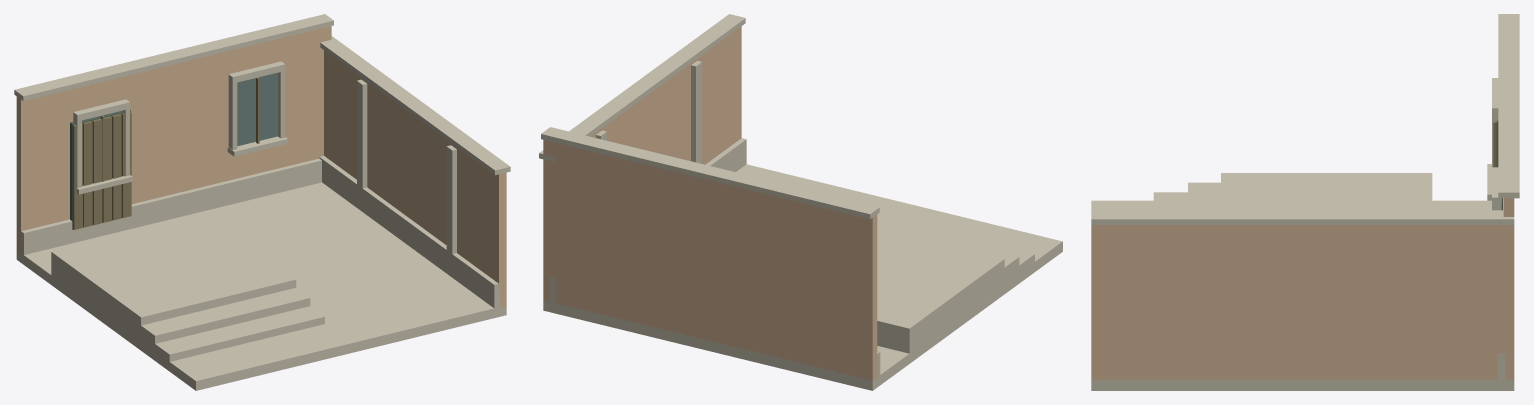
The model's file is district-2-0-1.glb.
3 views of the same model, side by side, from view 1: azimuth 30°, elevation 25°; view 2: azimuth 150°, elevation 25°; view 3: azimuth 270°, elevation 25° (orthographic). The views are drawn at different scales.
Parts seen in each view (by area): view 1: stone.011, plaster.010, wood.006, glass.005; view 2: plaster.010, stone.011; view 3: plaster.010, stone.011.
Part boxes in pixels (box(x1,y1,x2,y2)): stone.011: box(14, 14, 510, 390); plaster.010: box(16, 26, 506, 306); wood.006: box(73, 77, 259, 229); glass.005: box(82, 72, 277, 146); plaster.010: box(543, 26, 877, 380); stone.011: box(539, 14, 1062, 390); plaster.010: box(1091, 198, 1514, 379); stone.011: box(1091, 14, 1519, 390).
Bounding box in the file's own units: 8.1 × 4.14 × 8.1.
